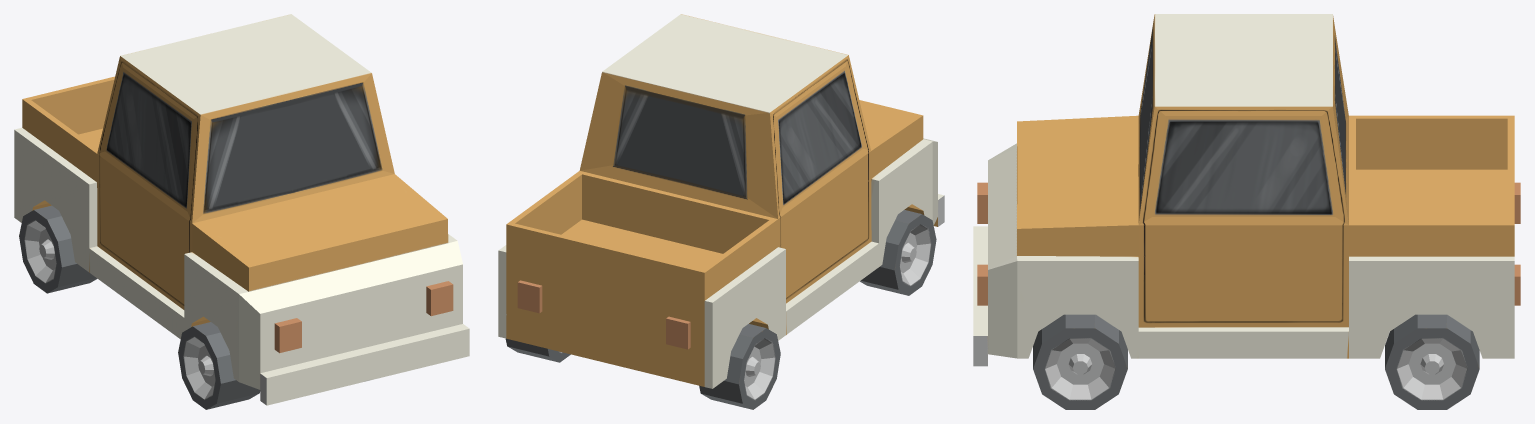
Rendered from car2.fbx.
3 renders of one model, left to right at view 1: azimuth 30°, elevation 25°; view 2: azimuth 150°, elevation 25°; view 3: azimuth 270°, elevation 25°, orthographic. The views are drawn at different scales.
Parts seen in each view (by area): view 1: car, front_wheel_LEF, rear_wheel_LEF, front_car_light_LEF, front_car_light_RGH; view 2: car, rear_wheel_LEF, front_wheel_LEF, rear_car_light_RGH, rear_car_light_LEF, rear_wheel_RGH; view 3: car, front_wheel_RGH, rear_wheel_RGH.
Part boxes in pixels (box(x1,y1,x2,y2)): car: box(14, 14, 469, 405); front_wheel_LEF: box(178, 322, 260, 409); rear_wheel_LEF: box(19, 205, 97, 293); front_car_light_LEF: box(274, 318, 301, 353); front_car_light_RGH: box(426, 281, 453, 316); car: box(498, 14, 944, 388); rear_wheel_LEF: box(699, 324, 780, 409); front_wheel_LEF: box(860, 210, 936, 295); rear_car_light_RGH: box(517, 280, 542, 313); rear_car_light_LEF: box(666, 316, 690, 349); rear_wheel_RGH: box(505, 338, 570, 362); car: box(973, 14, 1514, 366); front_wheel_RGH: box(1033, 314, 1127, 409); rear_wheel_RGH: box(1385, 314, 1479, 409).
Size of the model in its own units: 2.47 by 2.52 by 4.4.
6 materials, 5 textured.
